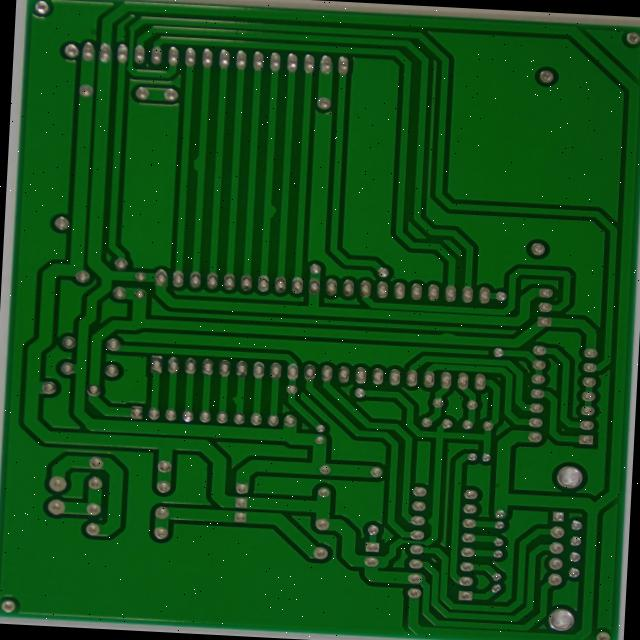spur: (216, 168, 244, 200), (301, 220, 327, 252), (508, 369, 539, 386), (265, 437, 286, 459), (497, 577, 513, 596)
